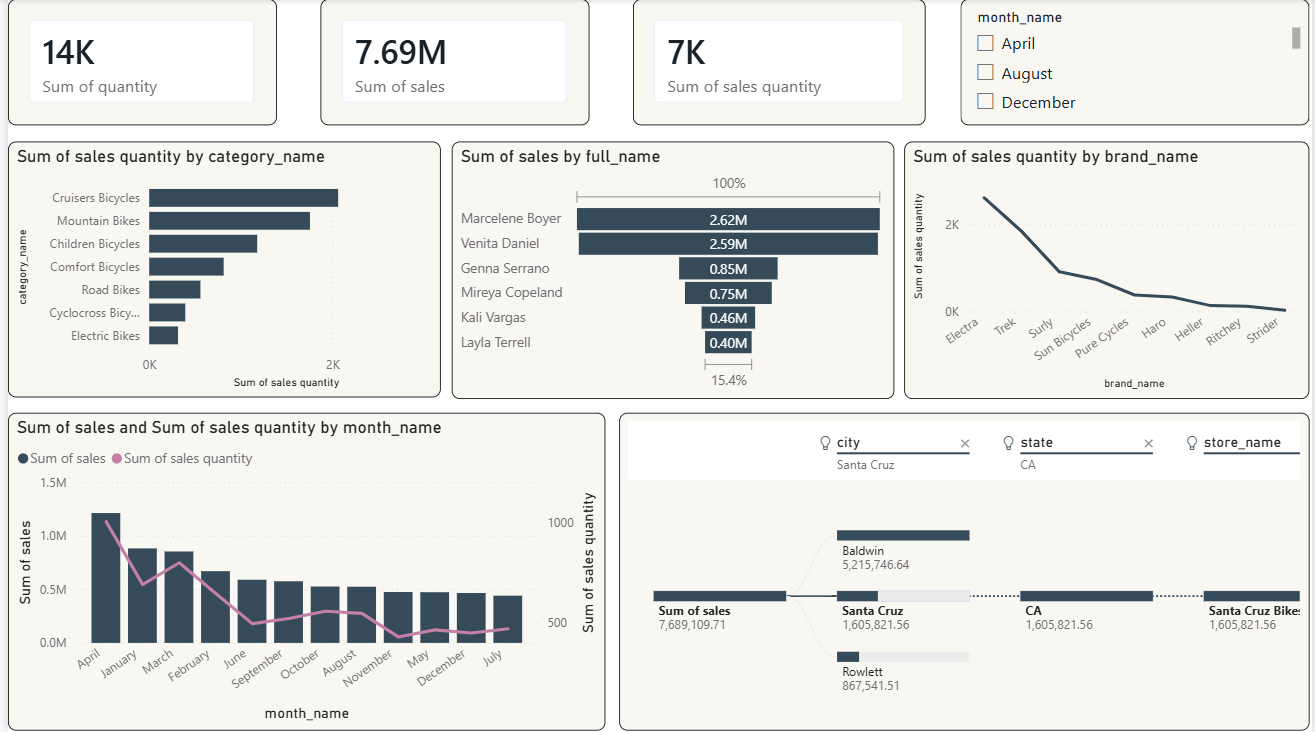

The dashboard page shown, as its layout file describes it:
{"tool":"powerbi","page":{"name":"Page 1","canvas":[1280,720],"ordinal":0},"visuals":[{"type":"cardVisual","fields":{"Data":["Sum(Fact_Inventory.quantity)"]},"box":[0,0,263.8,123.9],"z":0},{"type":"lineClusteredColumnComboChart","fields":{"Category":["Dim_Date.month_name"],"Y":["Sum(Fact_Sales.total_amount)"],"Y2":["Sum(Fact_Sales.quantity)"]},"box":[0,406.1,586.5,311.7],"z":1000},{"type":"cardVisual","fields":{"Data":["Sum(Fact_Sales.total_amount)"]},"box":[306.8,0,263.8,123.9],"z":1002},{"type":"cardVisual","fields":{"Data":["Sum(Fact_Sales.quantity)"]},"box":[613.5,0,287.1,123.9],"z":1003},{"type":"decompositionTreeVisual","fields":{"ExplainBy":["Dim_Store.city","Dim_Store.state","Dim_Store.store_name"],"Analyze":["Sum(Fact_Sales.total_amount)"]},"box":[600,406.1,677.3,311.7],"z":1004},{"type":"clusteredBarChart","fields":{"Category":["Dim_Product.category_name"],"Y":["Sum(Fact_Sales.quantity)"]},"box":[0,140.5,424.5,251.5],"z":1005},{"type":"funnel","fields":{"Category":["Dim_Staff.full_name"],"Y":["Sum(Fact_Sales.total_amount)"]},"box":[435.6,139.9,434.4,252.8],"z":1006},{"type":"slicer","fields":{"Values":["Dim_Date.month_name"]},"box":[935,0,342.3,123.9],"z":1007},{"type":"lineChart","fields":{"Category":["Dim_Product.brand_name"],"Y":["Sum(Fact_Sales.quantity)"]},"box":[879.8,139.9,397.5,252.8],"z":1008}]}

Visuals, with their boxes in screenshot pixels (x1, y1, x2, y2), scaled from the page's 1280x720 canvas onto the 1315x732 screenshot:
cardVisual - Sum(Fact_Inventory.quantity): x1=0, y1=0, x2=271, y2=126
lineClusteredColumnComboChart - Dim_Date.month_name x Sum(Fact_Sales.total_amount): x1=0, y1=413, x2=603, y2=730
cardVisual - Sum(Fact_Sales.total_amount): x1=315, y1=0, x2=586, y2=126
cardVisual - Sum(Fact_Sales.quantity): x1=630, y1=0, x2=925, y2=126
decompositionTreeVisual - Dim_Store.city x Dim_Store.state: x1=616, y1=413, x2=1312, y2=730
clusteredBarChart - Dim_Product.category_name x Sum(Fact_Sales.quantity): x1=0, y1=143, x2=436, y2=399
funnel - Dim_Staff.full_name x Sum(Fact_Sales.total_amount): x1=448, y1=142, x2=894, y2=399
slicer - Dim_Date.month_name: x1=961, y1=0, x2=1312, y2=126
lineChart - Dim_Product.brand_name x Sum(Fact_Sales.quantity): x1=904, y1=142, x2=1312, y2=399
